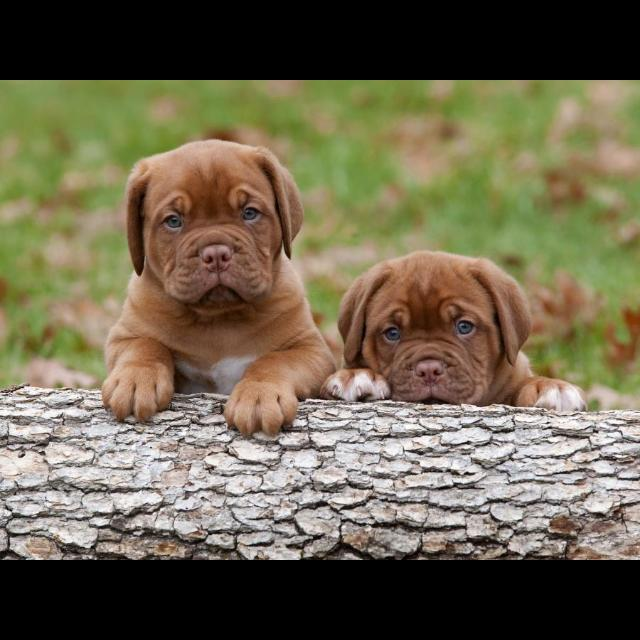dogue_de_bordeaux: (102, 139, 343, 437), (320, 250, 588, 412)
